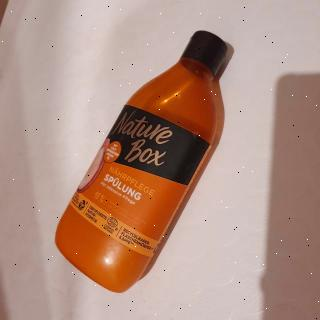Plastic-bottle: (53, 28, 235, 296)
